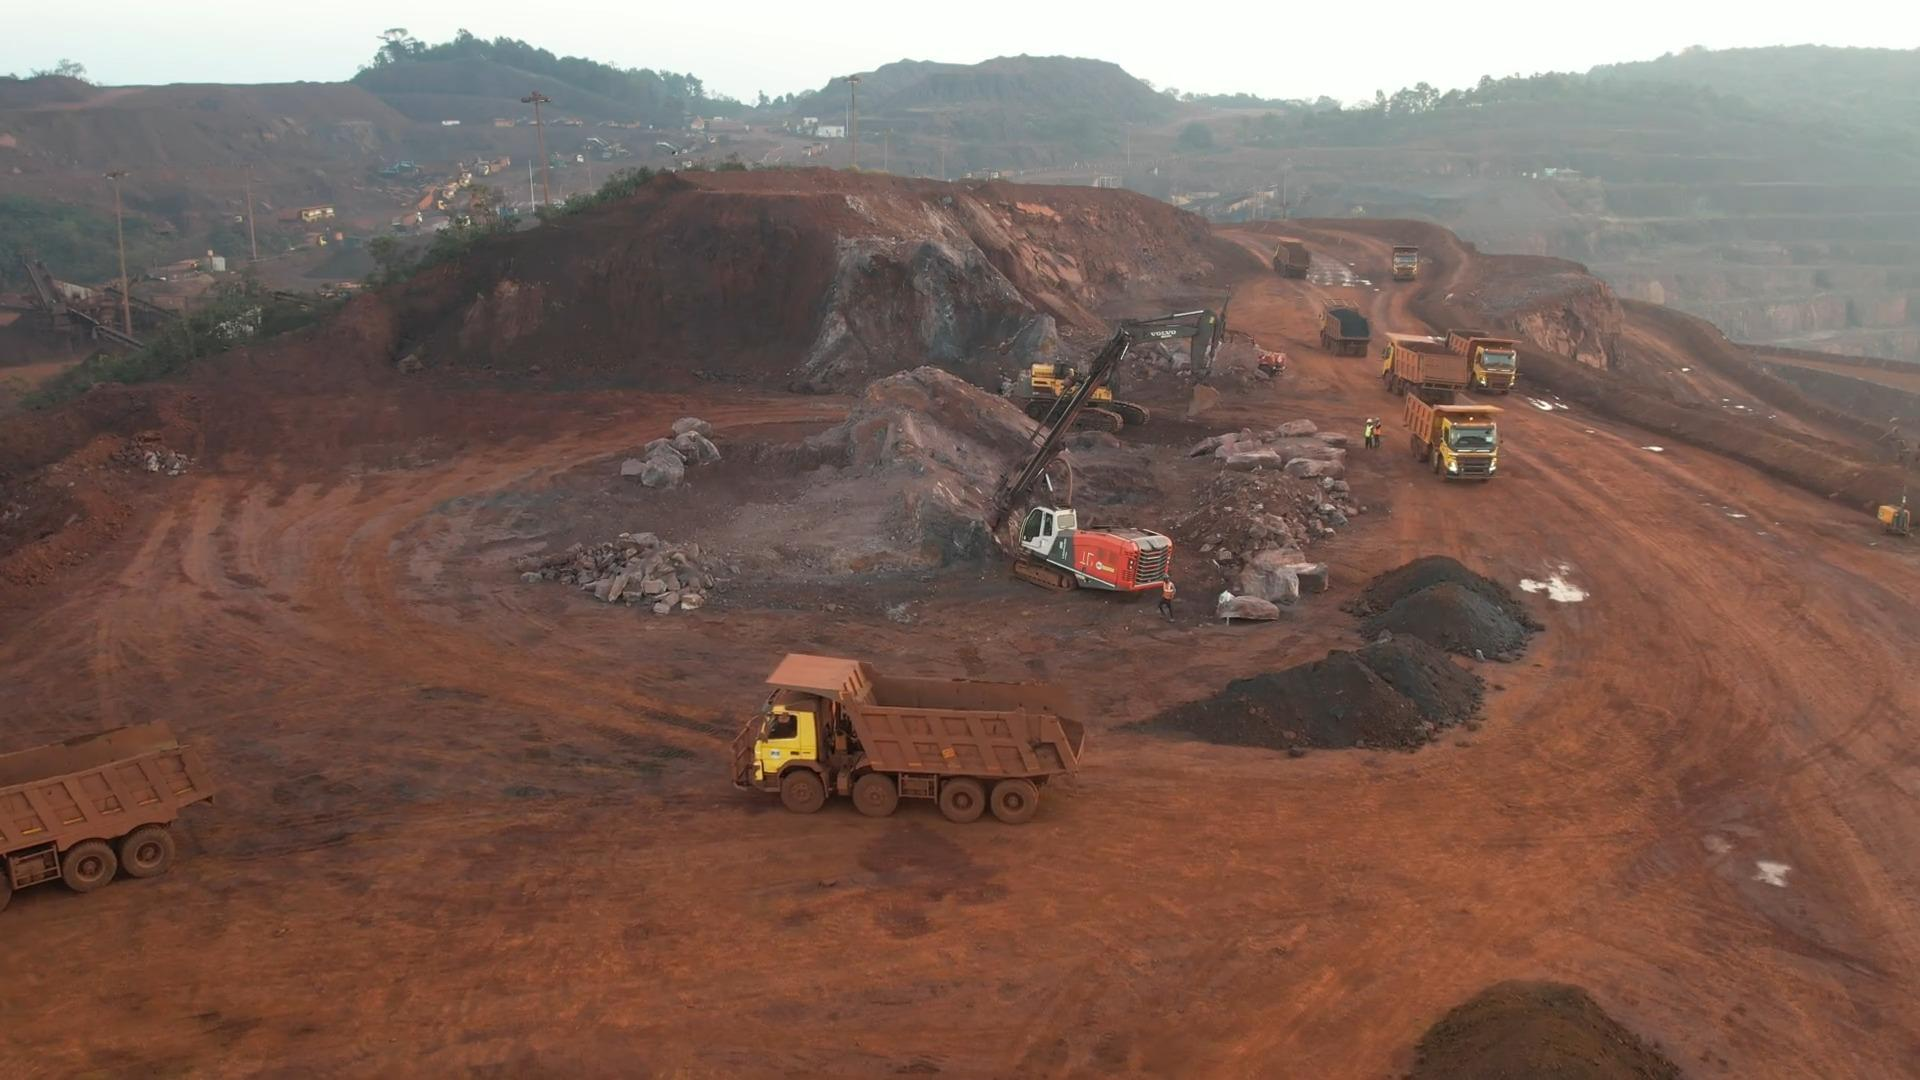excavator: (1025, 310, 1221, 421)
